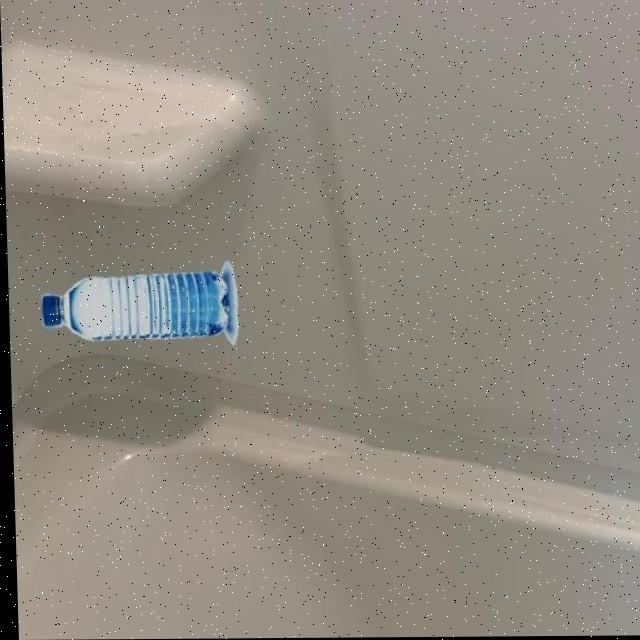bottle: (36, 259, 238, 348)
